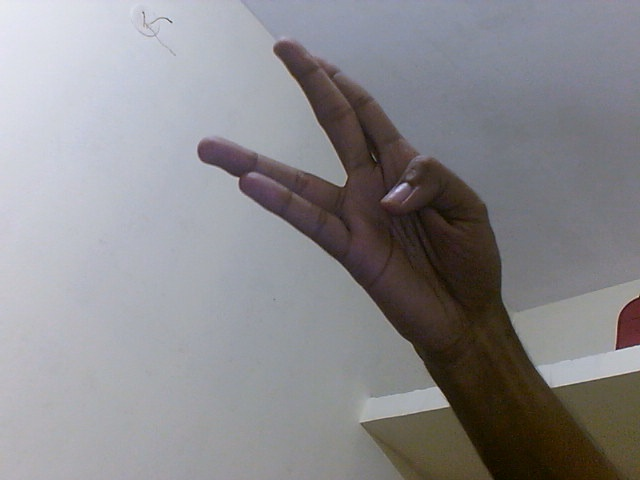hand: (196, 37, 506, 362)
